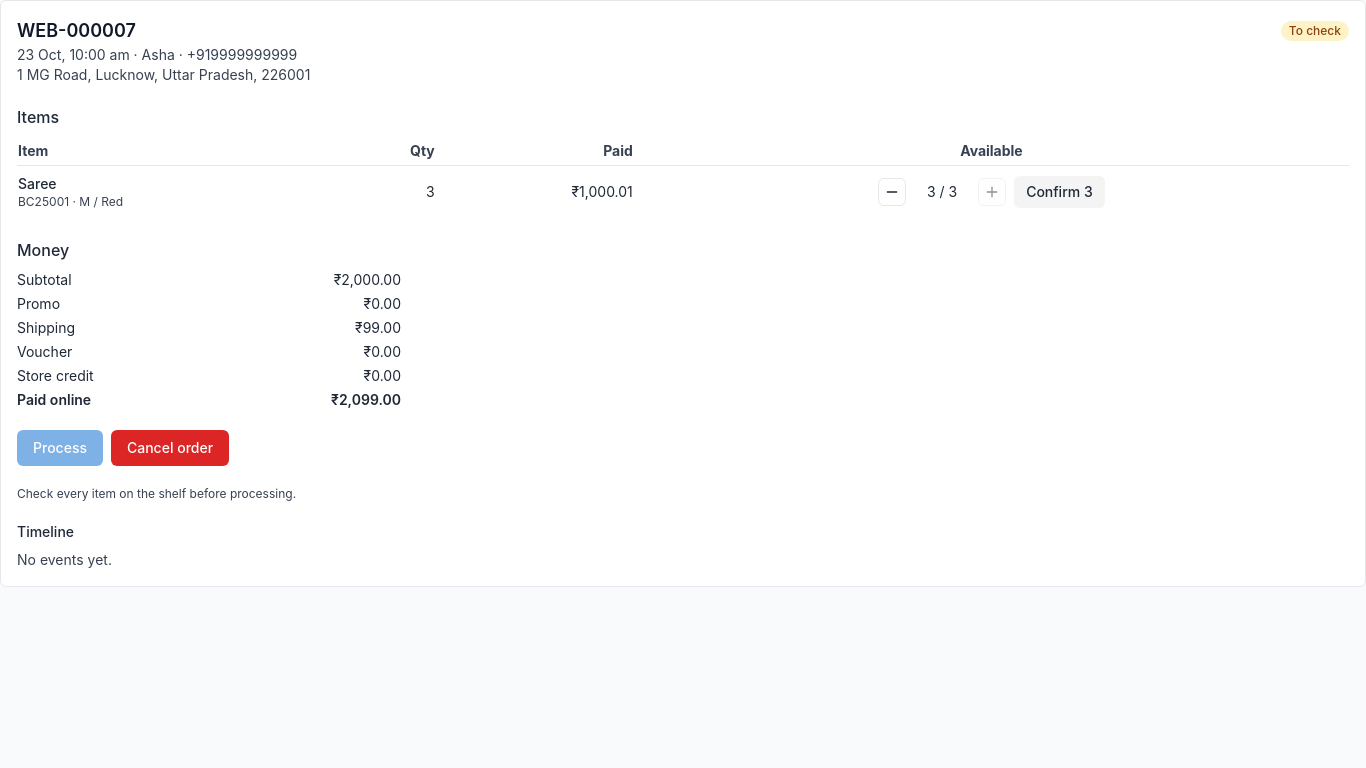
Test: refund preview splits paise like the server (remainder on first units)
Check: the text "Saree" is shown, box [18,175,57,192]
Click the button named "Fewer available for Saree": (892, 192) [878,178,906,206]
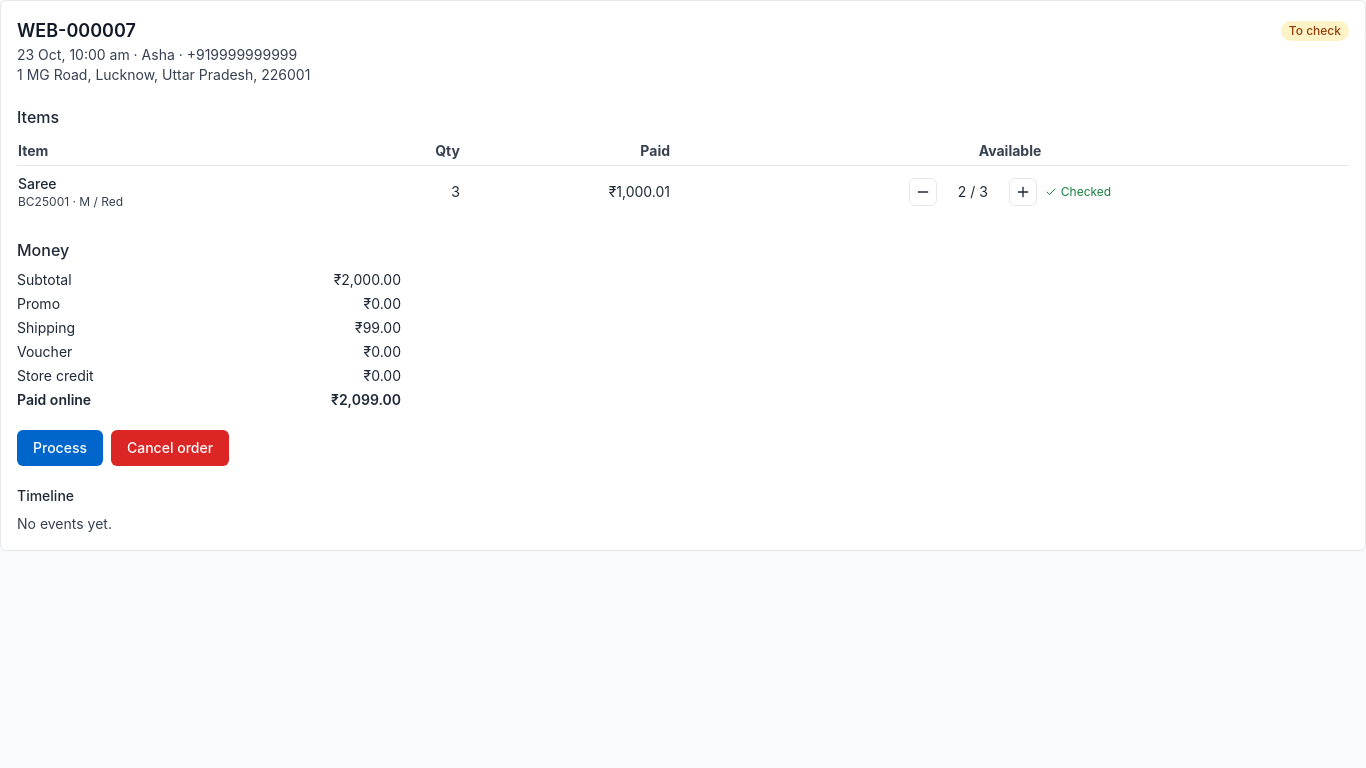
Check: the button "Process" is enabled
Click the button "Process": (60, 448) [17,430,103,466]
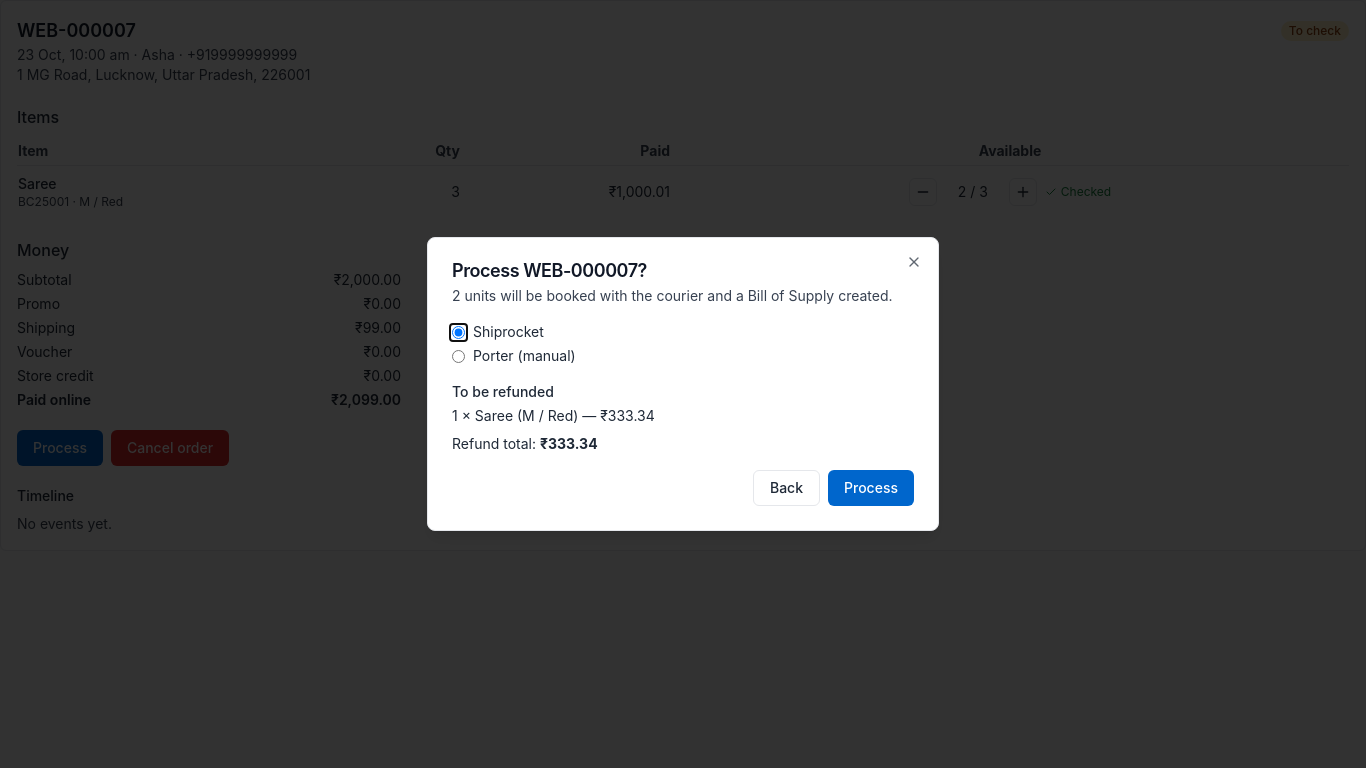
Check: the element with test id "refund-total" shows "₹333.34", box [540,435,598,452]
